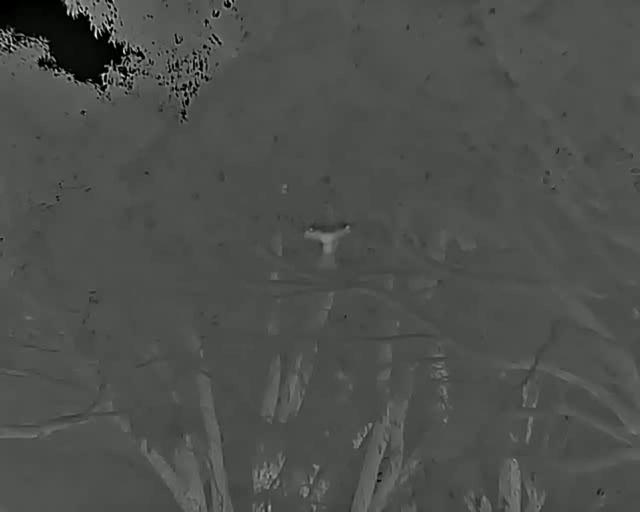DJI-Phantom: (307, 222, 353, 254)
